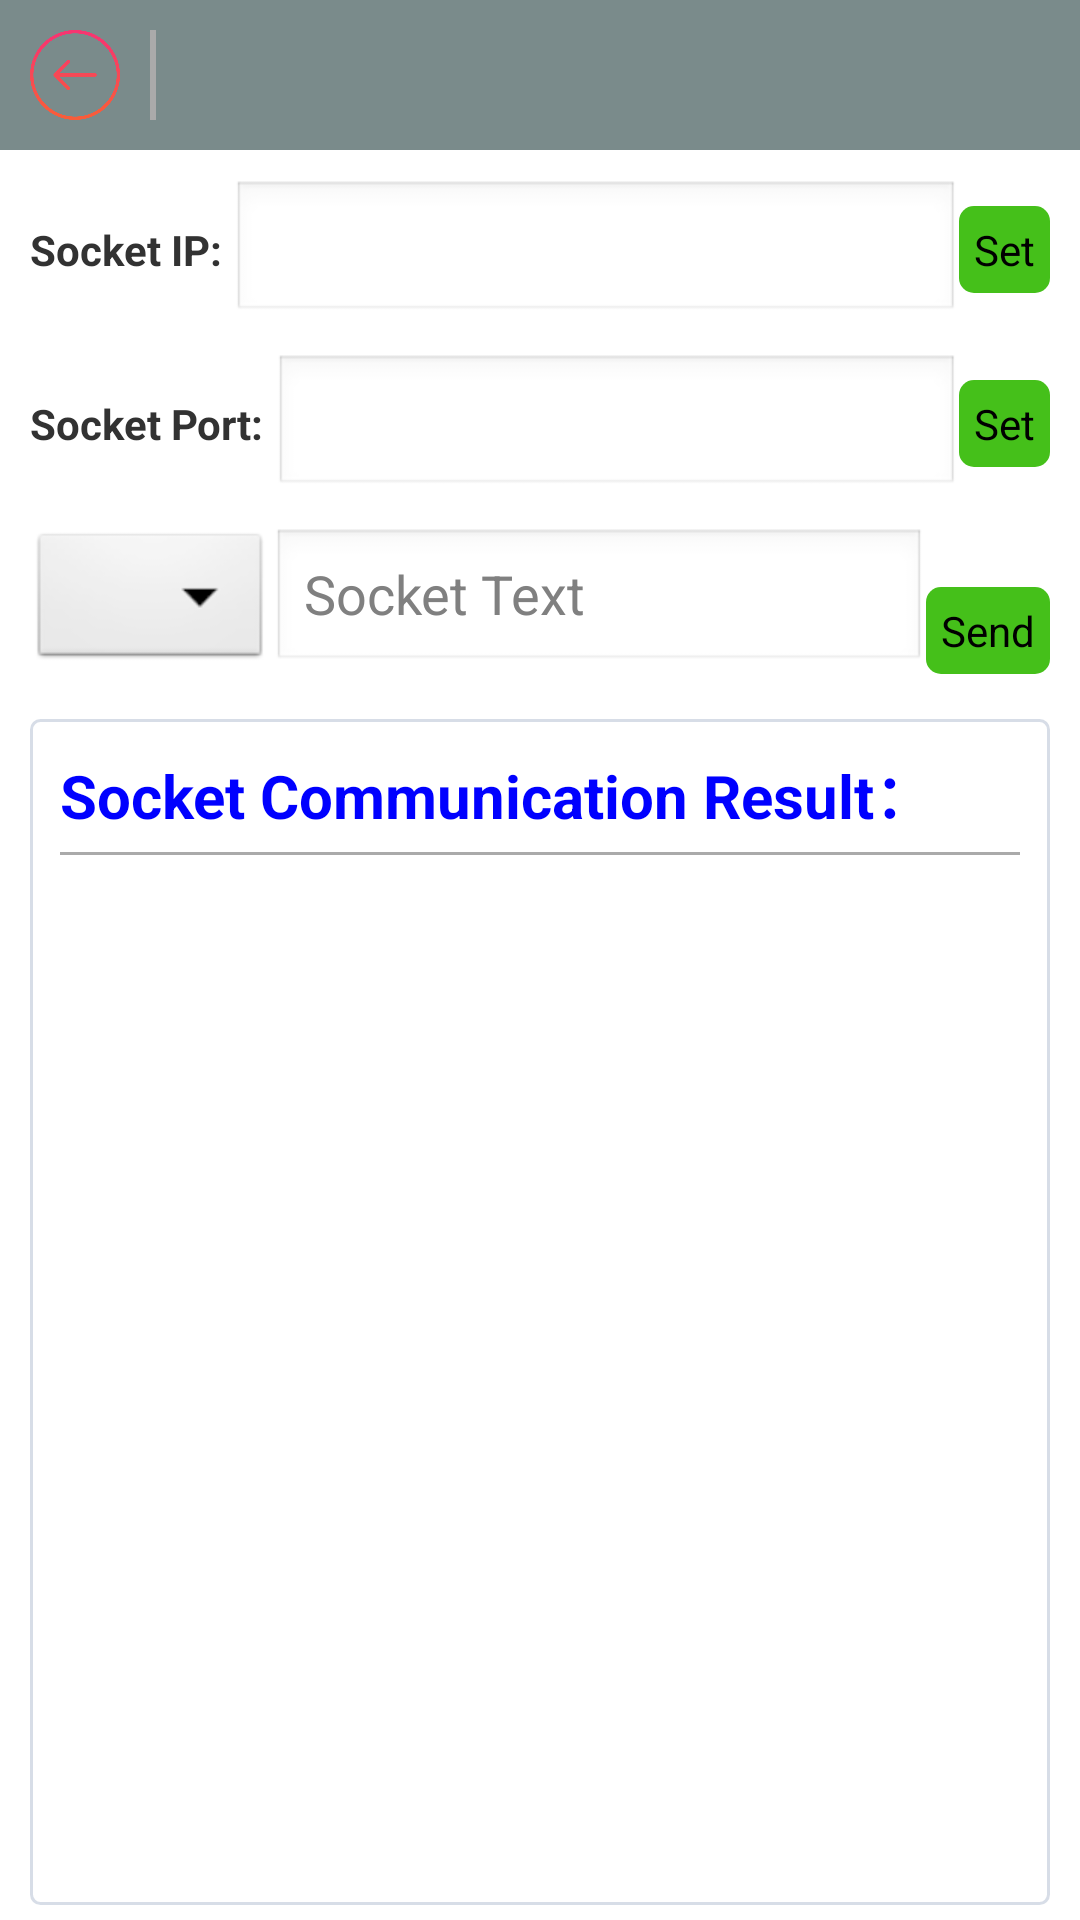

Where to tap for icons on this 1080*1920 app screen, as (x=x, y=y):
return: (x=75, y=75)
